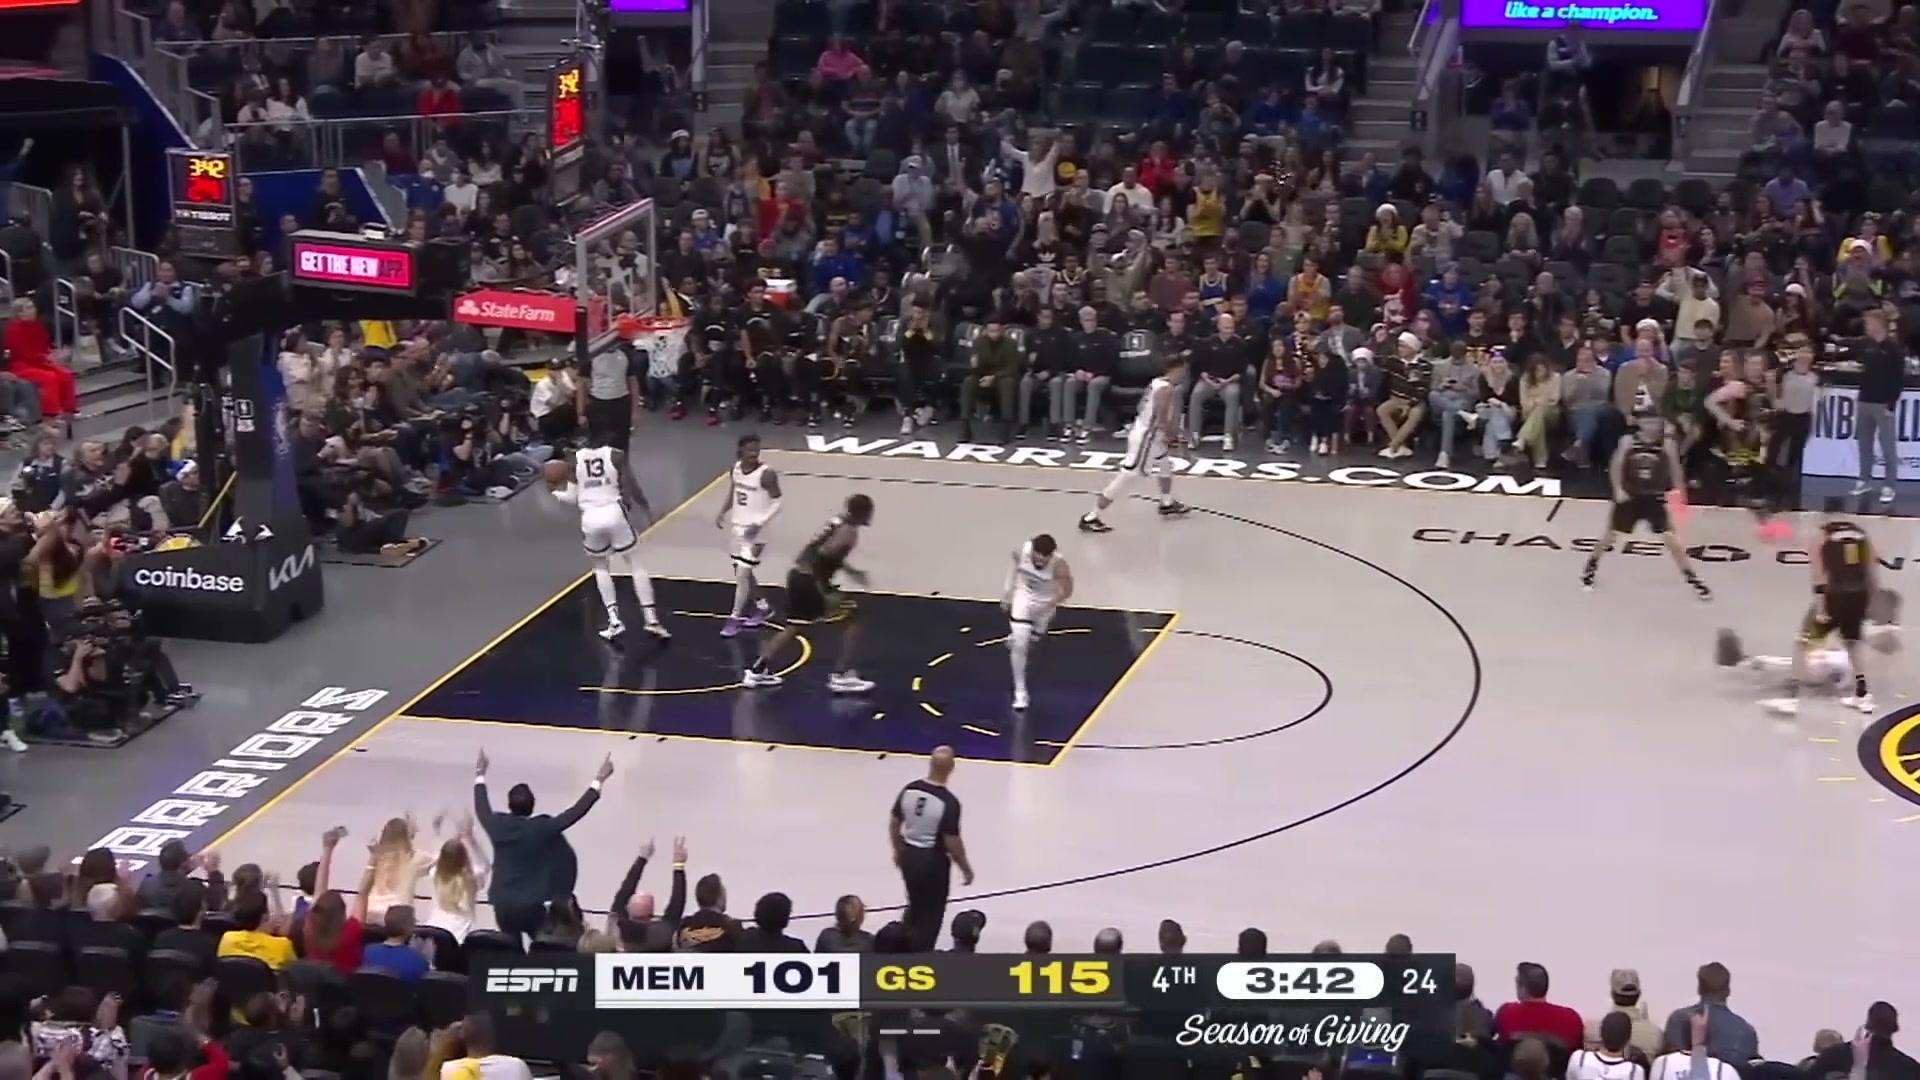no_foul: (699, 402, 884, 684)
